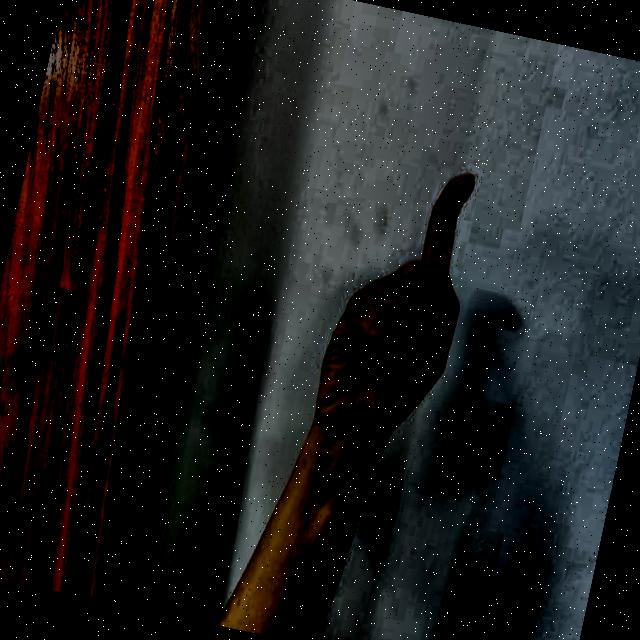E: (290, 128, 507, 466)
